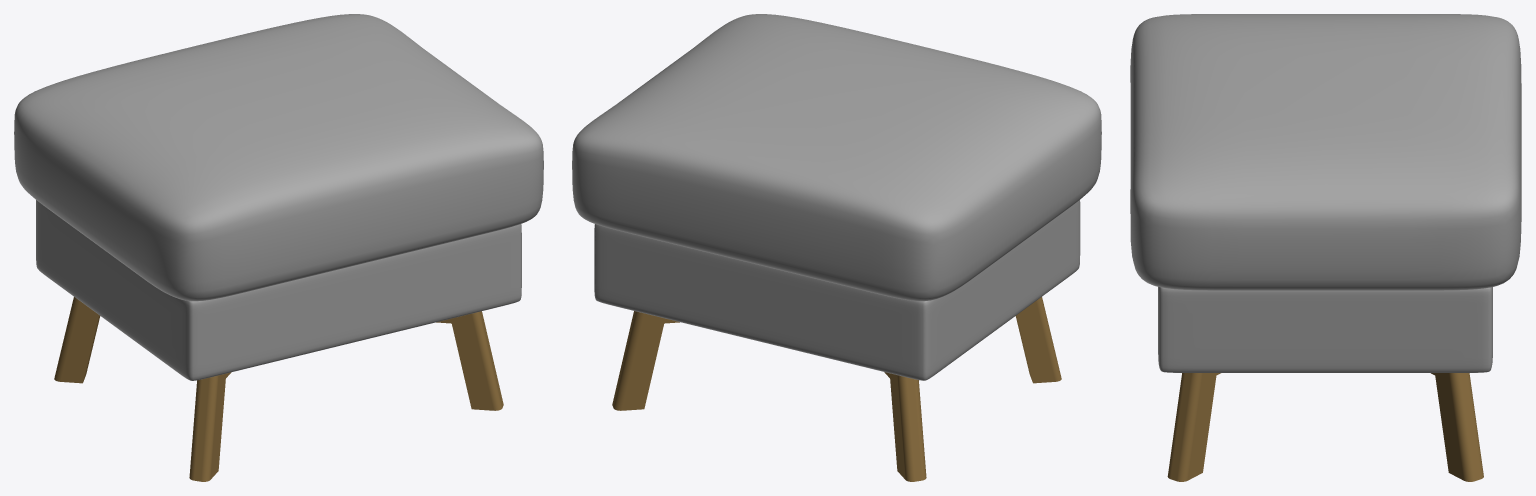
Rendered from 652_オットマン.glb.
3 renders of one model, left to right at view 1: azimuth 30°, elevation 25°; view 2: azimuth 150°, elevation 25°; view 3: azimuth 270°, elevation 25°, orthographic. The views are drawn at different scales.
Visible parts, largest first — view 1: Body1, Body4, Body6, Body5; view 2: Body1, Body3, Body5, Body6; view 3: Body1, Body3, Body4.
Part boxes in pixels (x1,y1,x2,y2): Body1: [14, 14, 543, 380]; Body4: [436, 311, 503, 410]; Body6: [189, 372, 231, 481]; Body5: [54, 297, 100, 383]; Body1: [572, 14, 1101, 380]; Body3: [612, 311, 679, 410]; Body5: [884, 372, 926, 481]; Body6: [1015, 297, 1061, 383]; Body1: [1130, 14, 1521, 372]; Body3: [1431, 373, 1483, 481]; Body4: [1167, 373, 1220, 481].
Size of the model in its own units: 0.5986 by 0.4448 by 0.4989.
